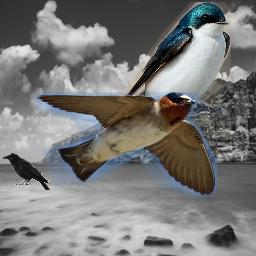Crow: (2, 153, 50, 190)
Swallow: (35, 92, 217, 197), (105, 2, 231, 144)
